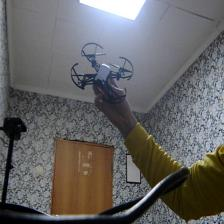drone: (68, 37, 138, 109)
